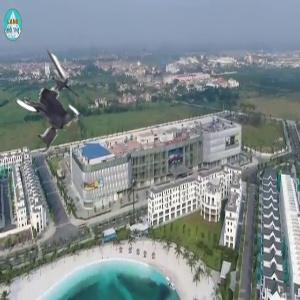drone: (5, 63, 98, 156)
